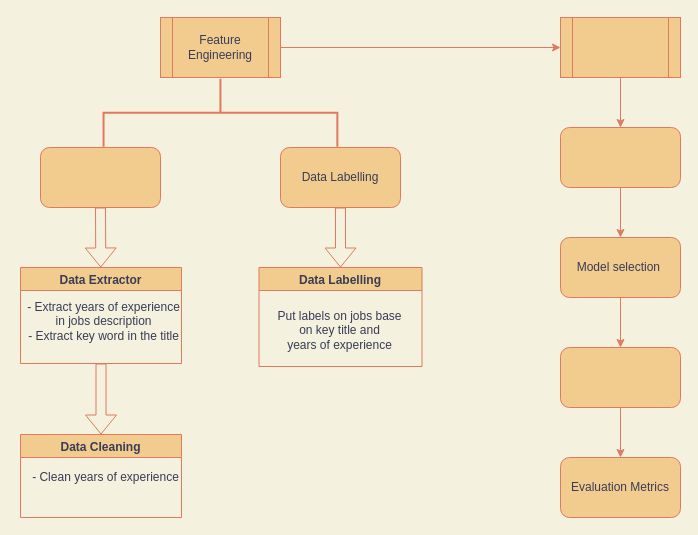
Some shapes in this 698 by 535 pixel diagram are drawn without their labels. The shapes that lost their labels are listed below. From the top down, each one's centre as x and y in pixels, then its label:
At (620,47): "Machine Learning".
At (100,177): "Data Mining".
At (620,157): "Features preprocessing".
At (620,377): "Hyperparameter Tuning".
